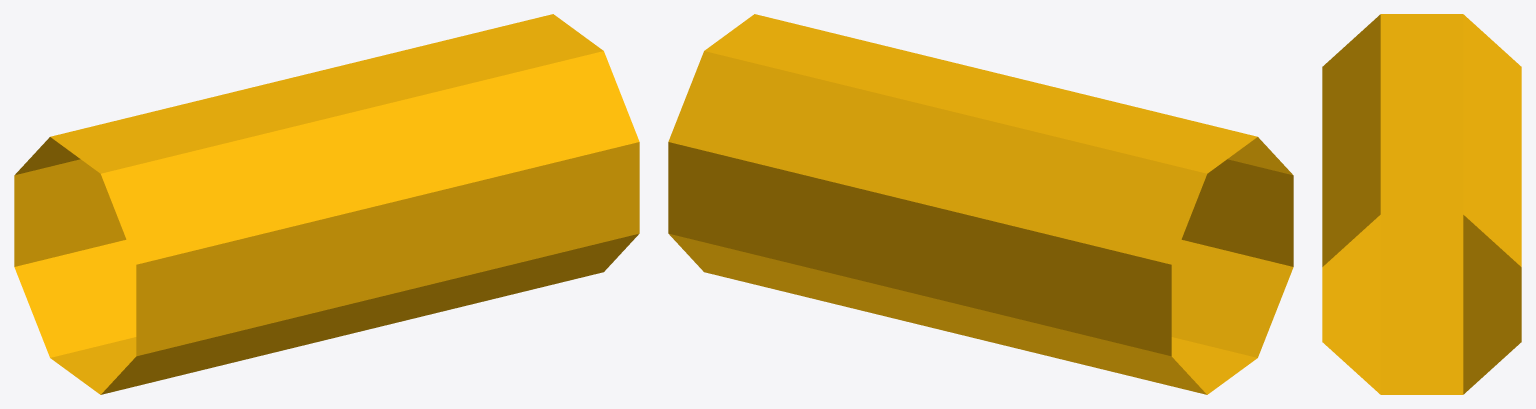
The model's file is pipe_flangeless_both.dae.
3 renders of one model, left to right at view 1: azimuth 30°, elevation 25°; view 2: azimuth 150°, elevation 25°; view 3: azimuth 270°, elevation 25°, orthographic. The views are drawn at different scales.
Visible parts, largest first — view 1: Cube; view 2: Cube; view 3: Cube.
Part boxes in pixels (x1,y1,x2,y2): Cube: (14,14,639,394); Cube: (668,14,1293,394); Cube: (1322,14,1521,394).
Size of the model in its own units: 0.25 by 0.105 by 0.105.
